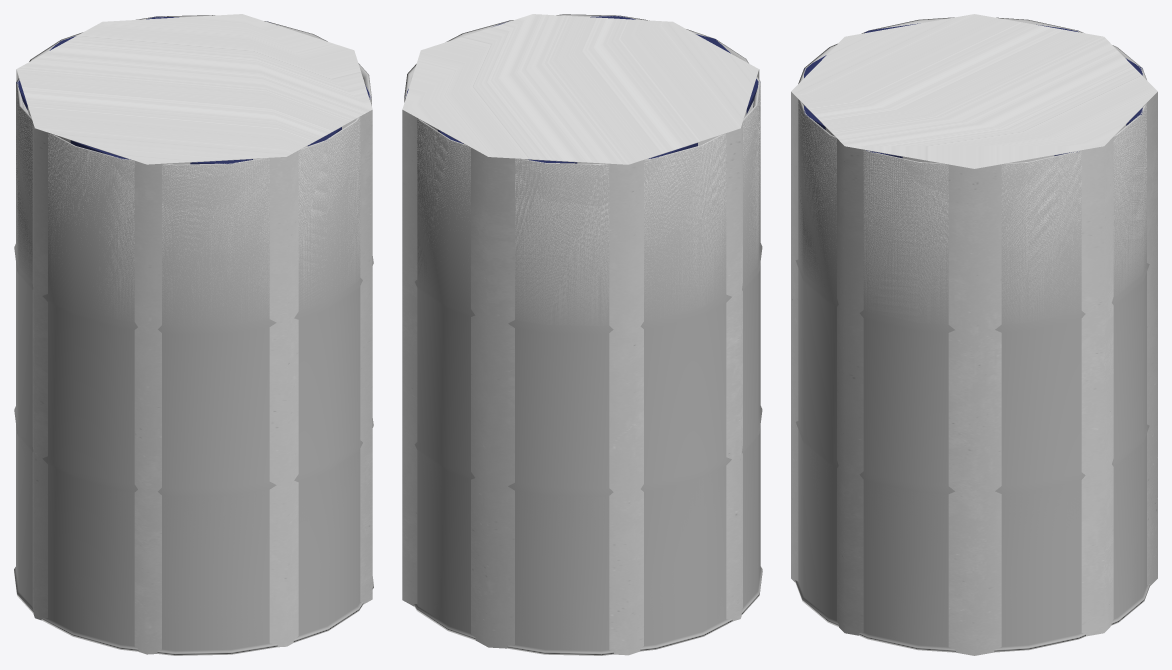
Rendered from si_drum.DAE.
The picture shows the model from 3 angles, left to right: view 1: azimuth 30°, elevation 25°; view 2: azimuth 150°, elevation 25°; view 3: azimuth 270°, elevation 25°; orthographic projection.
Parts seen in each view (by area): view 1: si_drum110, Colmesh-1, si_drum60, si_drum30; view 2: si_drum110, Colmesh-1, si_drum60, si_drum30; view 3: Colmesh-1, si_drum110, si_drum60, si_drum30.
Part boxes in pixels (x1=…): si_drum110: x1=14, y1=15, x2=373, y2=655; Colmesh-1: x1=16, y1=14, x2=372, y2=654; si_drum60: x1=16, y1=79, x2=371, y2=650; si_drum30: x1=16, y1=16, x2=370, y2=164; si_drum110: x1=404, y1=14, x2=762, y2=655; Colmesh-1: x1=402, y1=14, x2=759, y2=655; si_drum60: x1=404, y1=87, x2=760, y2=650; si_drum30: x1=405, y1=16, x2=758, y2=163; Colmesh-1: x1=791, y1=14, x2=1157, y2=655; si_drum110: x1=795, y1=17, x2=1149, y2=652; si_drum60: x1=798, y1=103, x2=1146, y2=646; si_drum30: x1=804, y1=23, x2=1142, y2=158.
Size of the model in its own units: 59.76 by 59.76 by 87.57.
